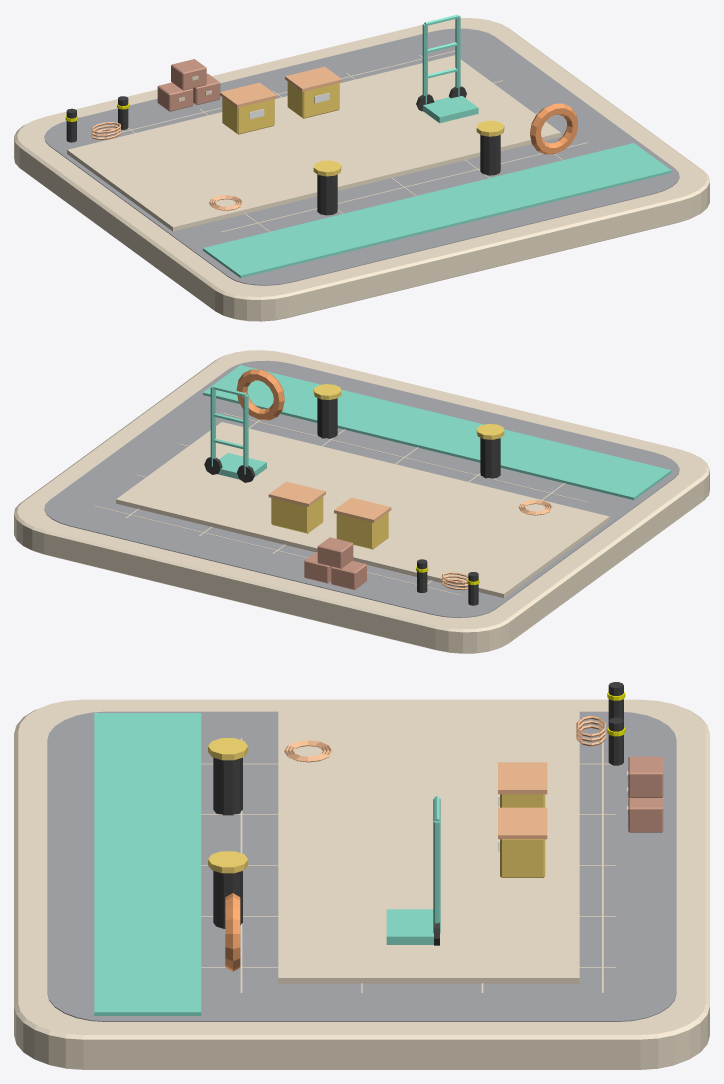
3 renders of one model, top to bottom at view 1: azimuth 30°, elevation 25°; view 2: azimuth 150°, elevation 25°; view 3: azimuth 270°, elevation 25°, orthographic. The views are drawn at different scales.
Visible parts, largest first — view 1: Dock paving, COM-01 Rounded Base Direct, COM-02 Floor Surface, Water edge, Life ring, Box.001, Box, Loading plate, Stacked case.002, Lid, Lid.001, Mooring post.001 (+3 smaller); view 2: COM-01 Rounded Base Direct, Dock paving, COM-02 Floor Surface, Water edge, Box.001, Box, Life ring, Stacked case.002, Lid, Lid.001, Mooring post, Mooring post.001 (+4 smaller); view 3: Dock paving, COM-02 Floor Surface, COM-01 Rounded Base Direct, Water edge, Box.001, Loading plate, Mooring post, Lid, Lid.001, Stacked case.002, Stacked case.001, Life ring (+6 smaller).
Boxes of the visible parts, box(x1,y1,x2,y2) form: Dock paving: box(67, 55, 560, 231); COM-01 Rounded Base Direct: box(14, 18, 709, 321); COM-02 Floor Surface: box(44, 28, 679, 285); Water edge: box(203, 143, 671, 278); Life ring: box(530, 103, 577, 154); Box.001: box(287, 81, 339, 118); Box: box(222, 97, 274, 134); Loading plate: box(423, 96, 478, 123); Stacked case.002: box(171, 59, 206, 90); Lid: box(220, 82, 277, 107); Lid.001: box(285, 66, 342, 91); Mooring post.001: box(480, 134, 500, 175); COM-01 Rounded Base Direct: box(14, 350, 709, 653); Dock paving: box(116, 422, 609, 598); COM-02 Floor Surface: box(44, 360, 679, 617); Water edge: box(203, 365, 671, 500); Box.001: box(271, 496, 323, 533); Box: box(336, 512, 388, 549); Life ring: box(236, 369, 284, 420); Stacked case.002: box(317, 537, 353, 568); Lid: box(334, 497, 391, 522); Lid.001: box(268, 481, 325, 506); Mooring post: box(480, 438, 500, 478); Mooring post.001: box(317, 398, 337, 438); Dock paving: box(278, 708, 579, 983); COM-02 Floor Surface: box(47, 711, 676, 1021); COM-01 Rounded Base Direct: box(14, 699, 709, 1069); Water edge: box(94, 713, 201, 1015); Box.001: box(500, 839, 545, 877); Loading plate: box(386, 909, 433, 944); Mooring post: box(213, 757, 242, 815); Lid: box(498, 762, 547, 794); Lid.001: box(498, 807, 547, 839); Stacked case.002: box(628, 756, 663, 797); Stacked case.001: box(628, 797, 663, 832); Life ring: box(225, 893, 240, 971).
Size of the model in its own units: 6 by 1.39 by 5.2.
1 material, 1 textured.
